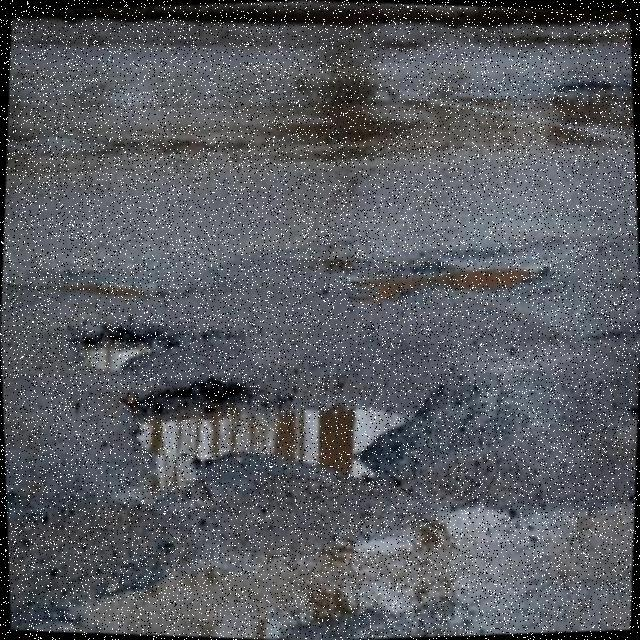Pothole: (121, 379, 406, 489), (348, 266, 549, 304), (86, 334, 160, 372)
